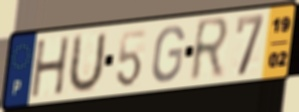5: (115, 27, 149, 89)
7: (234, 11, 267, 79)
G: (149, 24, 186, 85)
H: (30, 34, 72, 101)
R: (188, 15, 232, 86)
U: (65, 29, 109, 97)
